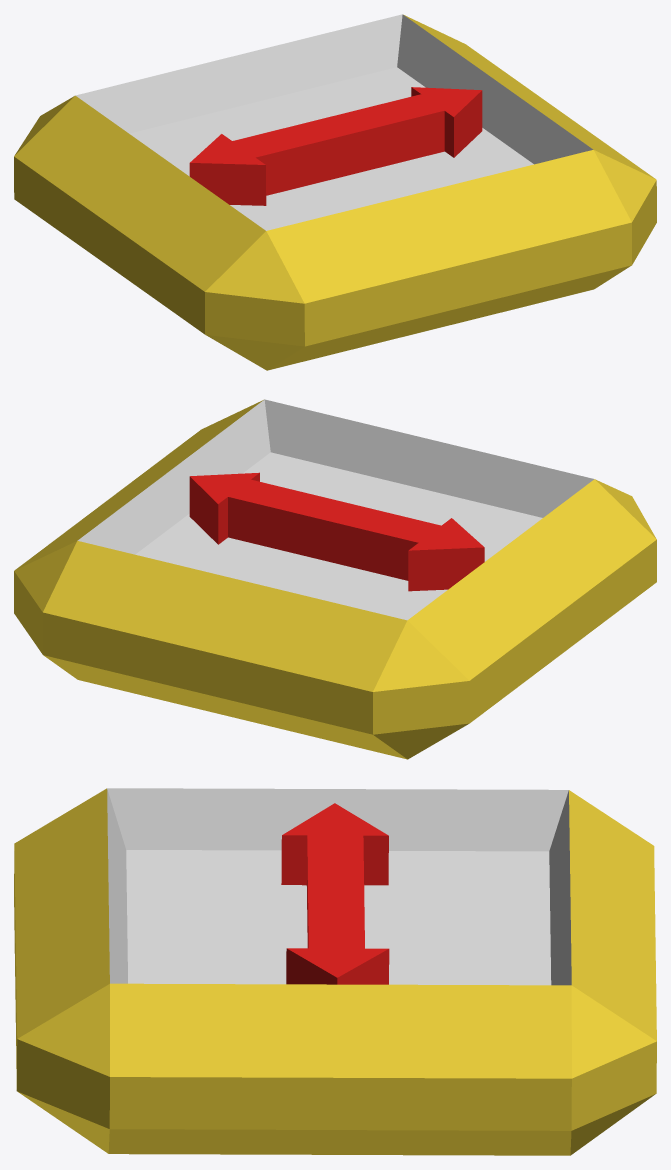
Rendered from aitem barlong.fbx.
3 renders of one model, top to bottom at view 1: azimuth 30°, elevation 25°; view 2: azimuth 150°, elevation 25°; view 3: azimuth 270°, elevation 25°, orthographic. The views are drawn at different scales.
Visible parts, largest first — view 1: Cube; view 2: Cube; view 3: Cube.
Boxes of the visible parts, x1,y1,x2,y2 form: Cube: [14, 14, 656, 370]; Cube: [14, 399, 656, 759]; Cube: [14, 788, 656, 1155].
Bounding box in the file's own units: 201 × 59.85 × 201.
